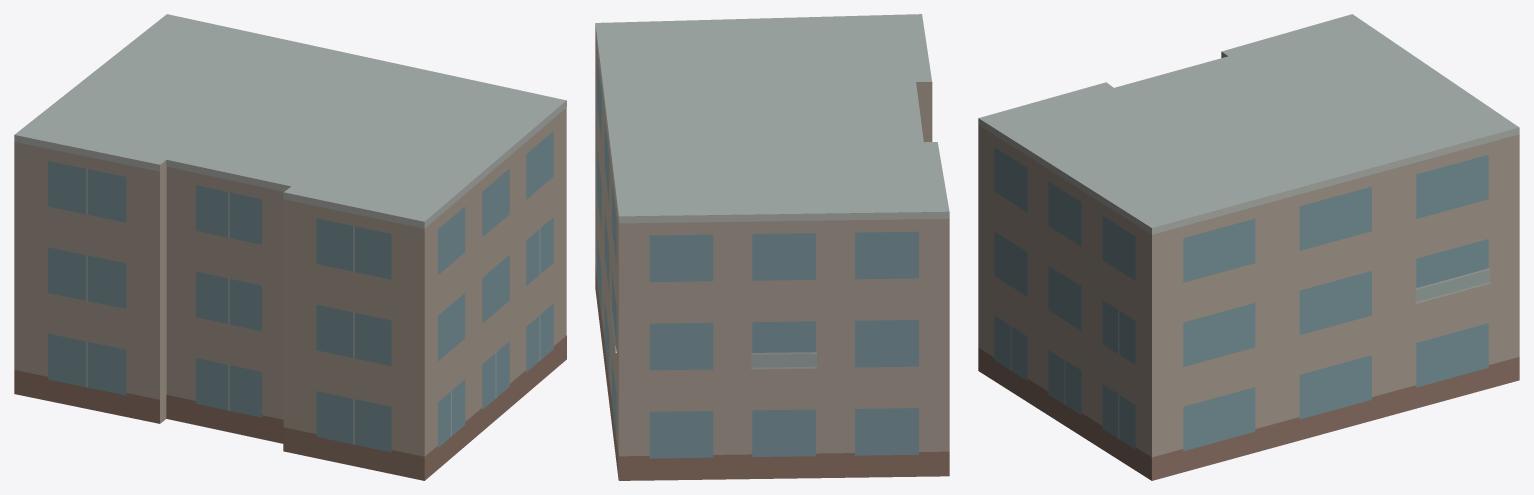
Rendered from survey-upis-33002767.glb.
3 renders of one model, left to right at view 1: azimuth 30°, elevation 25°; view 2: azimuth 150°, elevation 25°; view 3: azimuth 270°, elevation 25°, orthographic. The views are drawn at different scales.
Visible parts, largest first — view 1: survey-upis-33002767.tmp; view 2: survey-upis-33002767.tmp; view 3: survey-upis-33002767.tmp.
Boxes of the visible parts, bbox=[...] form: survey-upis-33002767.tmp: bbox=[14, 14, 566, 480]; survey-upis-33002767.tmp: bbox=[595, 14, 949, 480]; survey-upis-33002767.tmp: bbox=[978, 14, 1519, 480].
Size of the model in its own units: 16.63 by 9.15 by 17.76.
